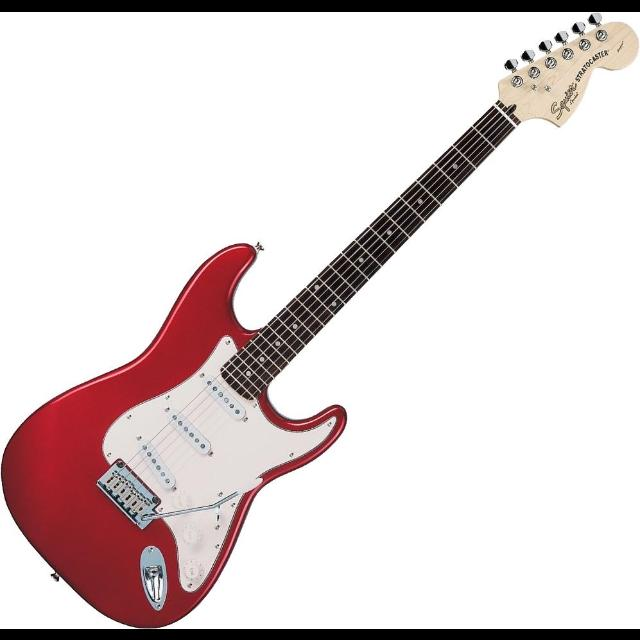Electric-Guitar: (0, 11, 640, 628), (0, 16, 640, 629)
